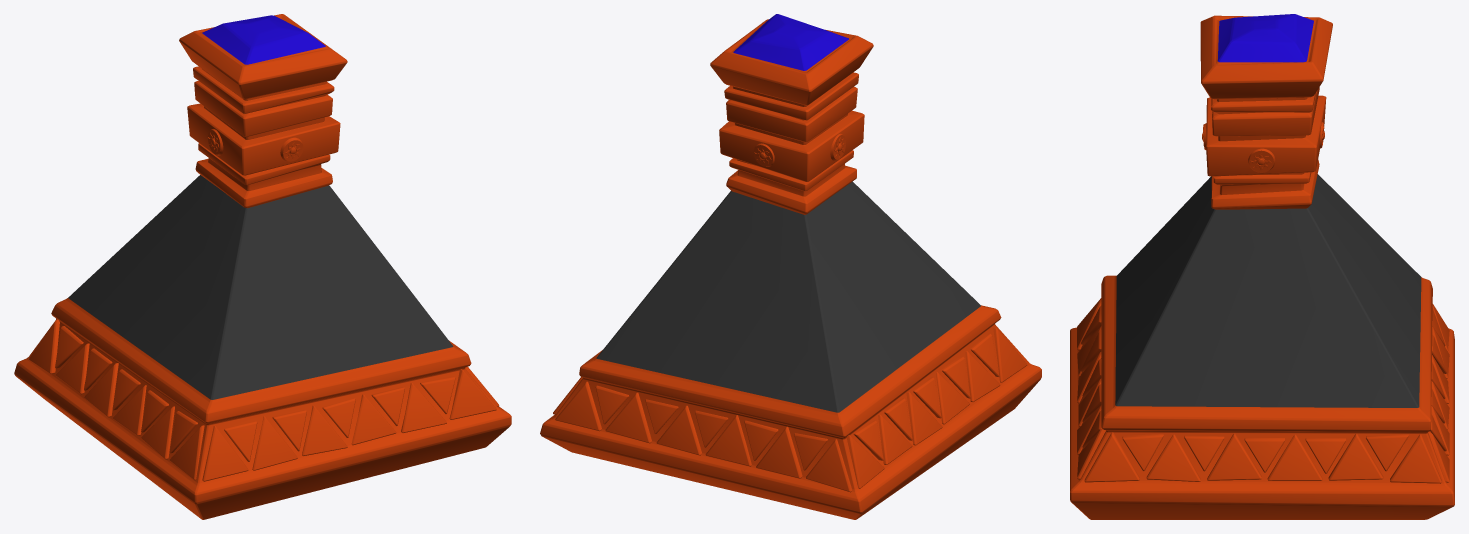
3 renders of one model, left to right at view 1: azimuth 30°, elevation 25°; view 2: azimuth 150°, elevation 25°; view 3: azimuth 270°, elevation 25°, orthographic. The views are drawn at different scales.
Visible parts, largest first — view 1: Potion_High (×3); view 2: Potion_High (×3); view 3: Potion_High (×3).
Part boxes in pixels (x1=…): Potion_High (×3): x1=14, y1=14, x2=511, y2=519; Potion_High (×3): x1=540, y1=14, x2=1041, y2=519; Potion_High (×3): x1=1070, y1=14, x2=1454, y2=519.
Bounding box in the file's own units: 349 × 420 × 343.
